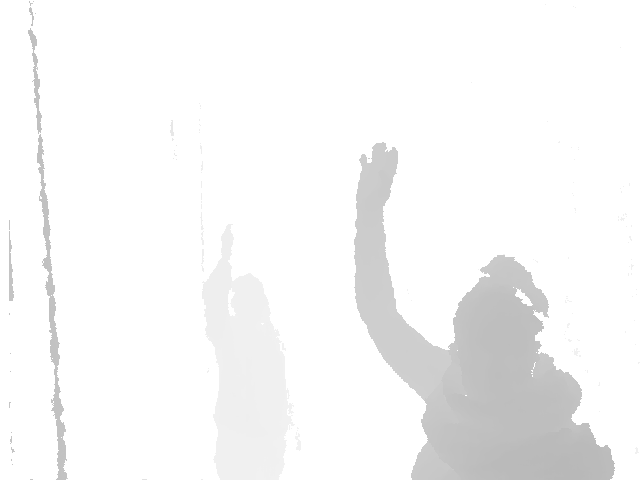hand: (356, 138, 400, 215), (215, 221, 238, 263)
head: (448, 254, 548, 374), (228, 273, 268, 329)
person: (350, 135, 616, 480), (200, 215, 302, 480)
